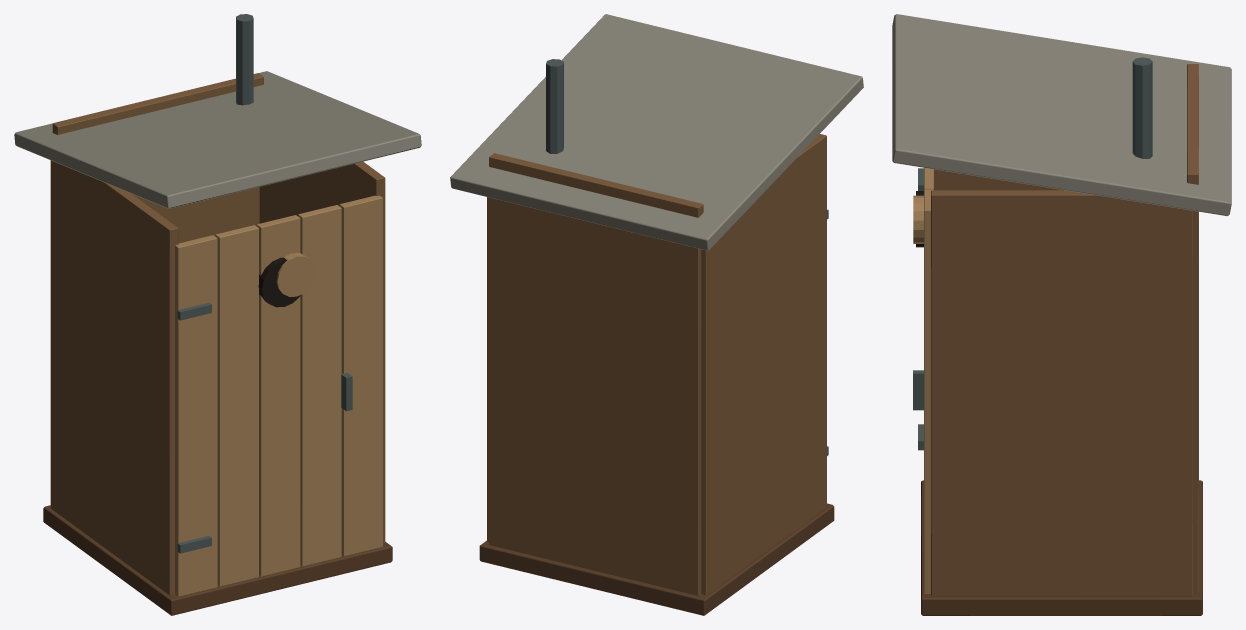
File: Outhouse.glb
3 views of the same model, side by side, from view 1: azimuth 30°, elevation 25°; view 2: azimuth 150°, elevation 25°; view 3: azimuth 270°, elevation 25° (orthographic). The views are drawn at different scales.
Parts seen in each view (by area): view 1: Outhouse.001; view 2: Outhouse.001; view 3: Outhouse.001.
Boxes of the visible parts, box(x1,y1,x2,y2) form: Outhouse.001: box(14, 14, 421, 615); Outhouse.001: box(450, 14, 863, 615); Outhouse.001: box(892, 14, 1231, 615).
Bounding box in the file's own units: 1.6 × 2.9 × 1.68.
